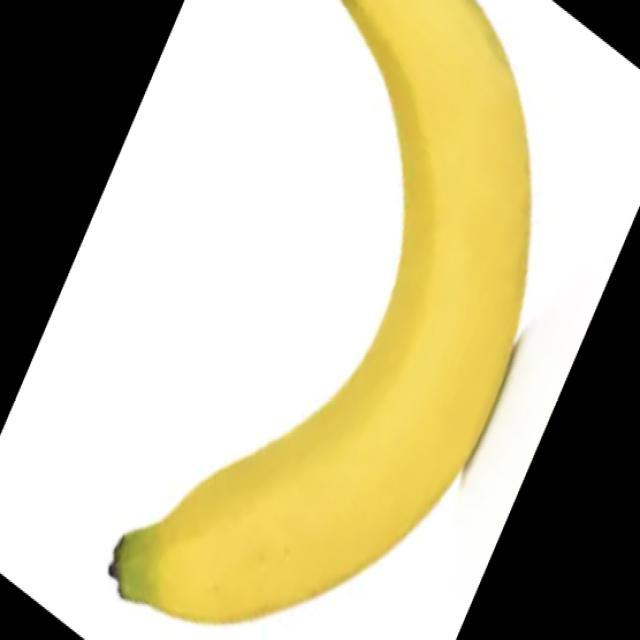Banana: (107, 0, 531, 625)
